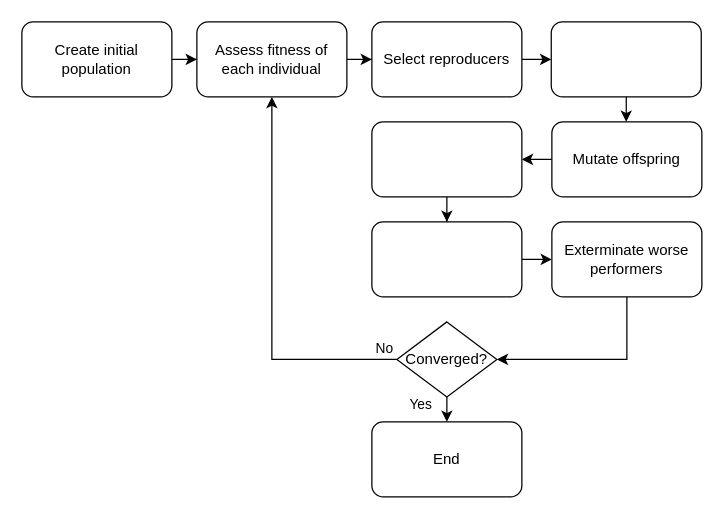
This 724x519 diagram has some shape labels left out. The box of each missing label's shape, as (x1, y1, x2, y2) in pixels:
Assess fitness of new individuals: (371, 121, 522, 197)
Create offspring: (550, 21, 701, 97)
Identify elites: (371, 221, 522, 297)
